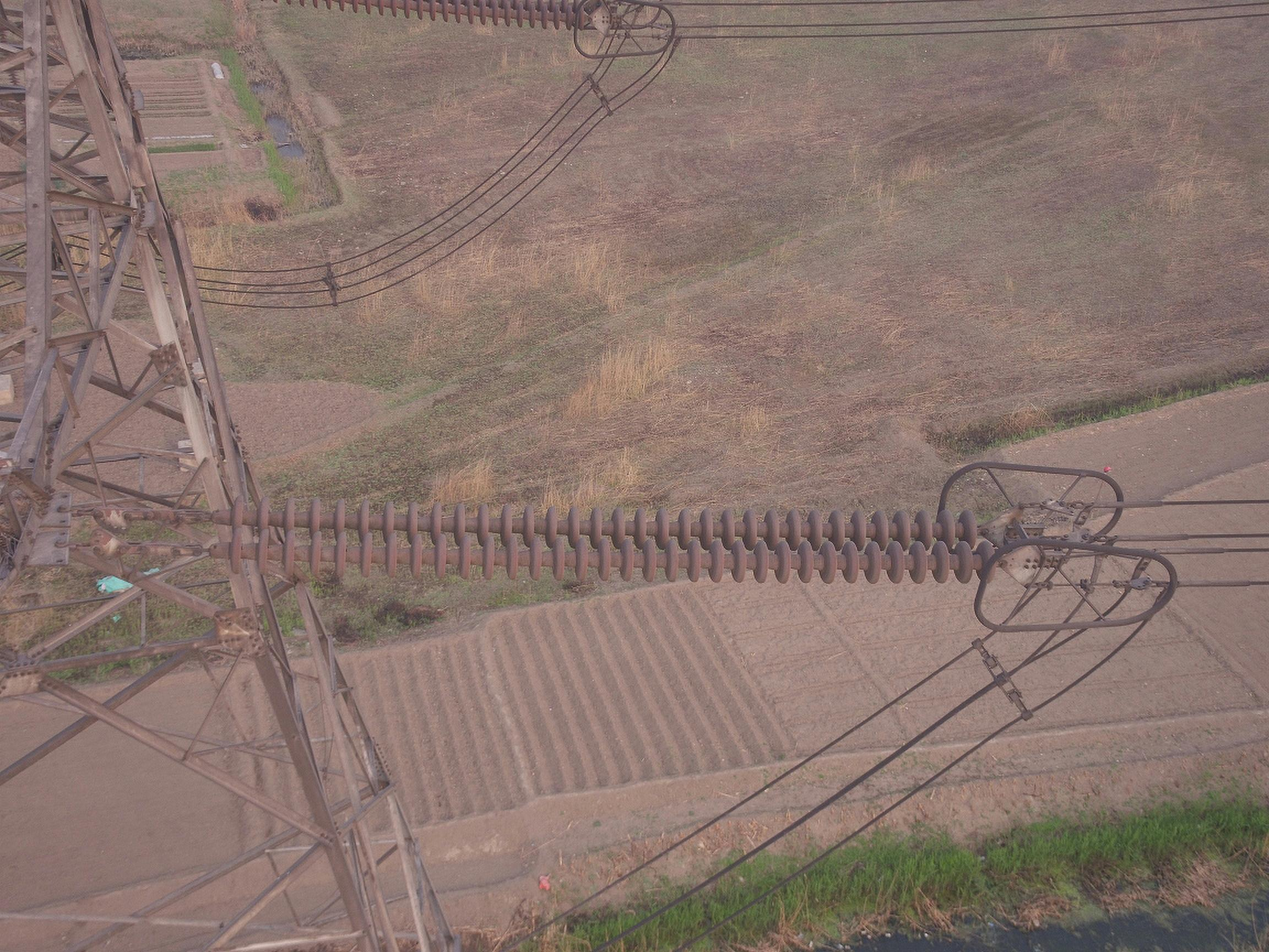insulator: (222, 488, 1002, 593), (284, 1, 591, 33)
